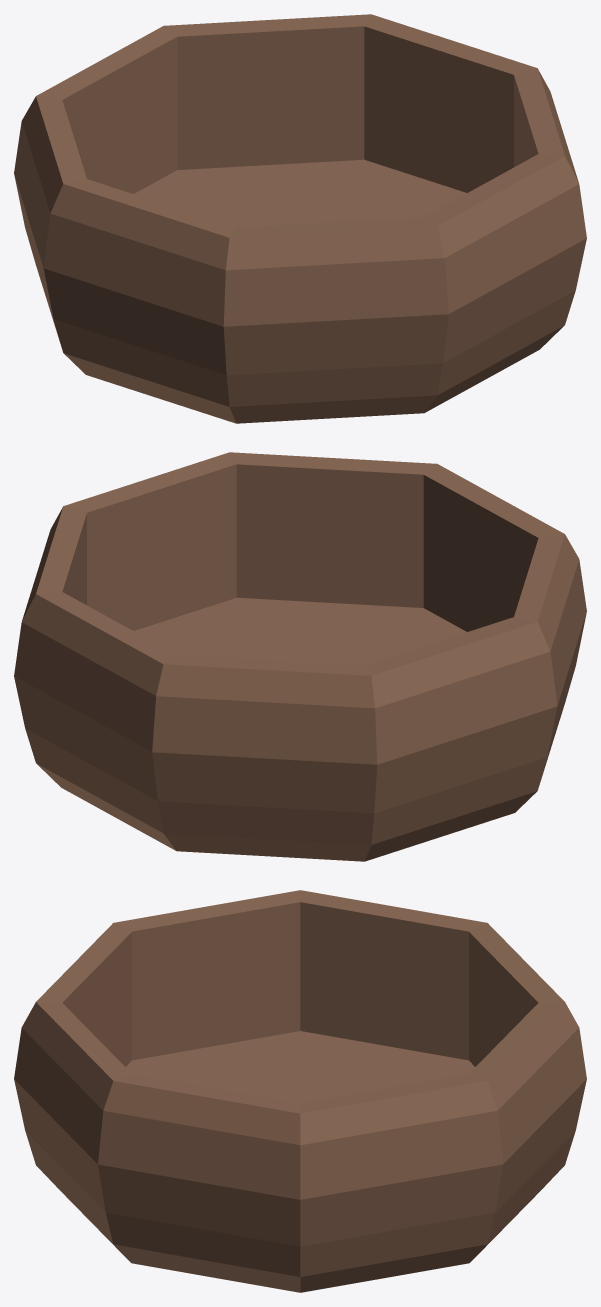
Rendered from Bowl_1.fbx.
3 views of the same model, one above another, from view 1: azimuth 30°, elevation 25°; view 2: azimuth 150°, elevation 25°; view 3: azimuth 270°, elevation 25° (orthographic). The views are drawn at different scales.
Visible parts, largest first — view 1: polySurface1493; view 2: polySurface1493; view 3: polySurface1493.
Part boxes in pixels (x1,y1,x2,y2): polySurface1493: (14,14,586,423); polySurface1493: (14,452,586,861); polySurface1493: (14,890,586,1292).
Size of the model in its own units: 32.6 by 11.92 by 32.6.
